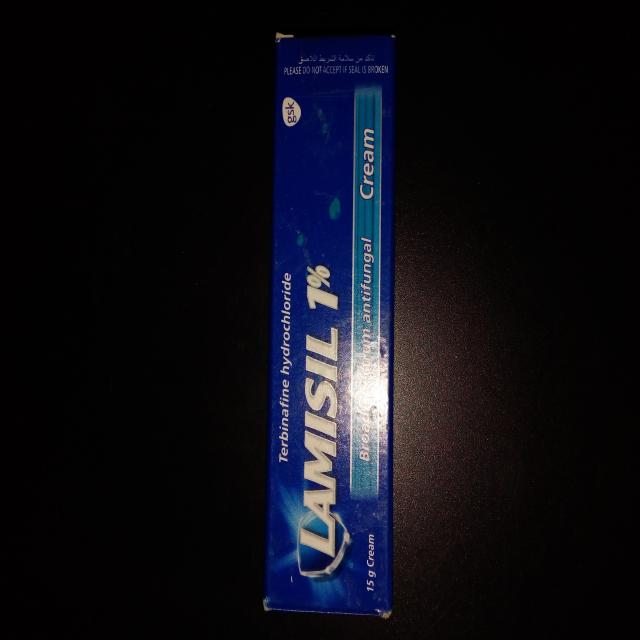Medicine: (264, 18, 396, 626)
